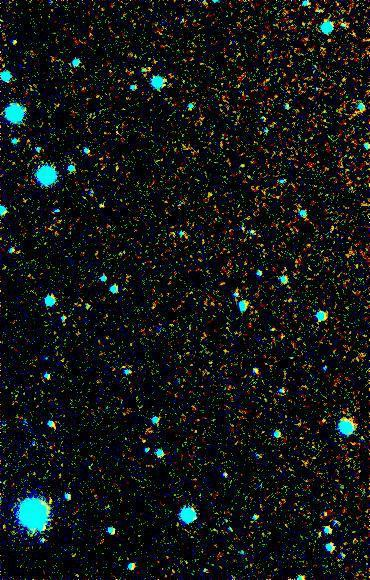star: (128, 426, 158, 456)
